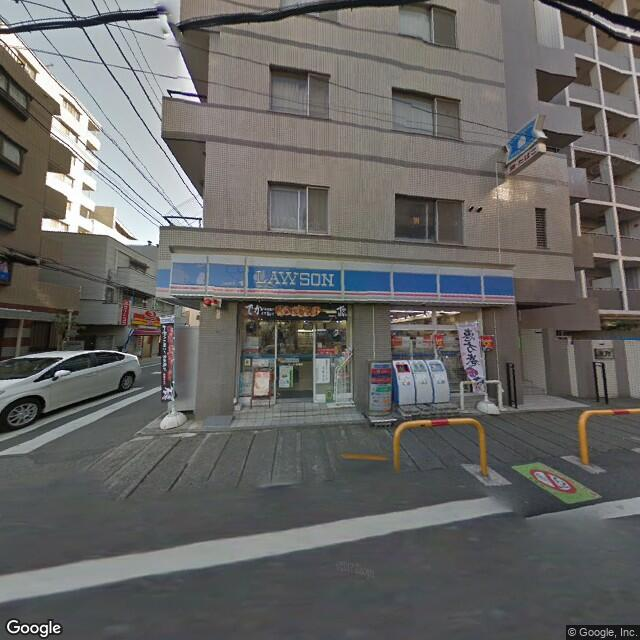lawson: (154, 254, 521, 307), (502, 114, 544, 162)
